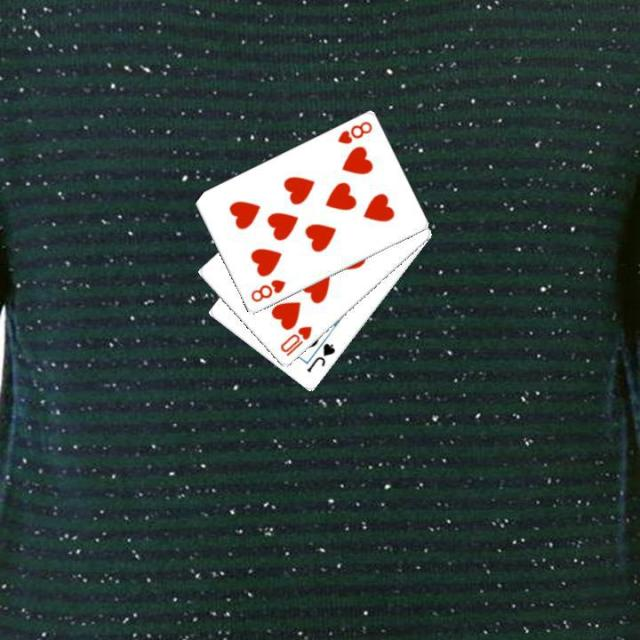10H: (276, 322, 314, 358)
8H: (334, 117, 374, 147), (246, 276, 287, 304)
JS: (303, 340, 337, 374)
